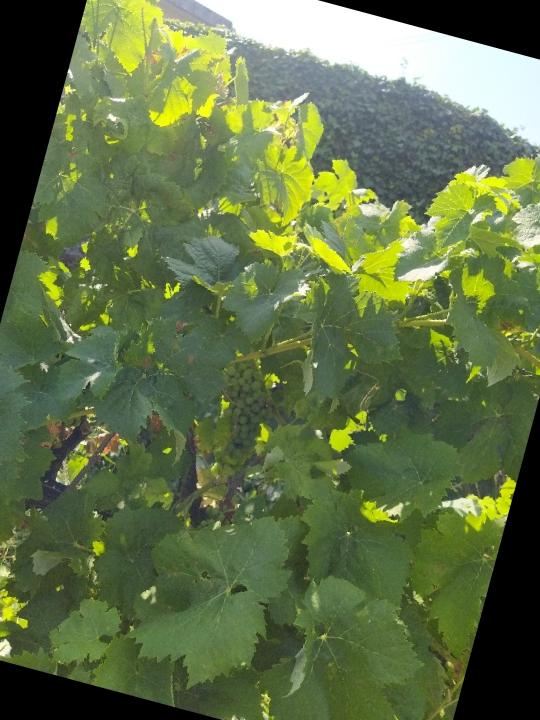grape: (194, 356, 288, 497)
